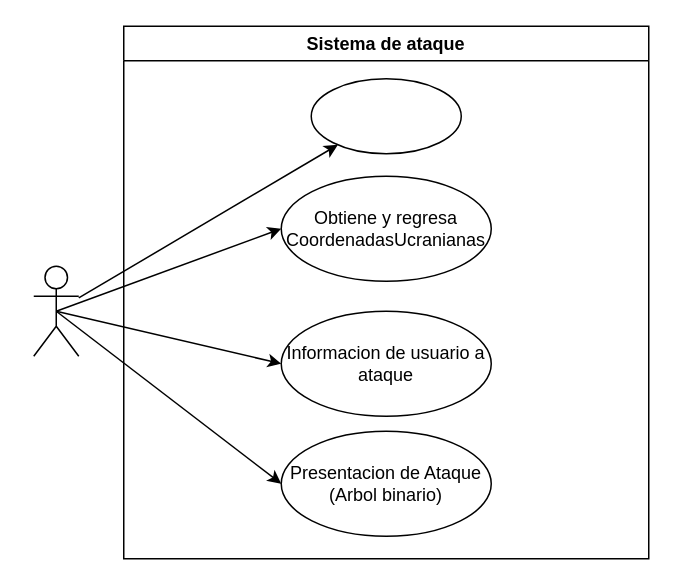
This 675x585 diagram has some shape labels left out. Here are the shapes that lost their labels. From the top down, the centre of each, then its label:
the point at 385,115: iniciarSesion
the point at 55,310: Usuario
